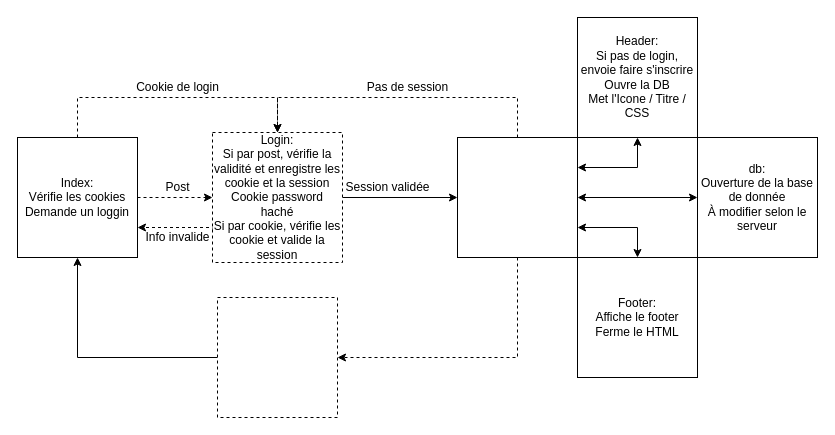
The diagram is 835 pixels wide and 435 high, and some of its shapes have lost their labels. The centre of each missing label's shape, as x and y in pixels:
"Déconexion: Supprime la session Supprime les cookies" belongs at point (277, 357).
"Tout le reste Avec Header & Footer" belongs at point (517, 197).
